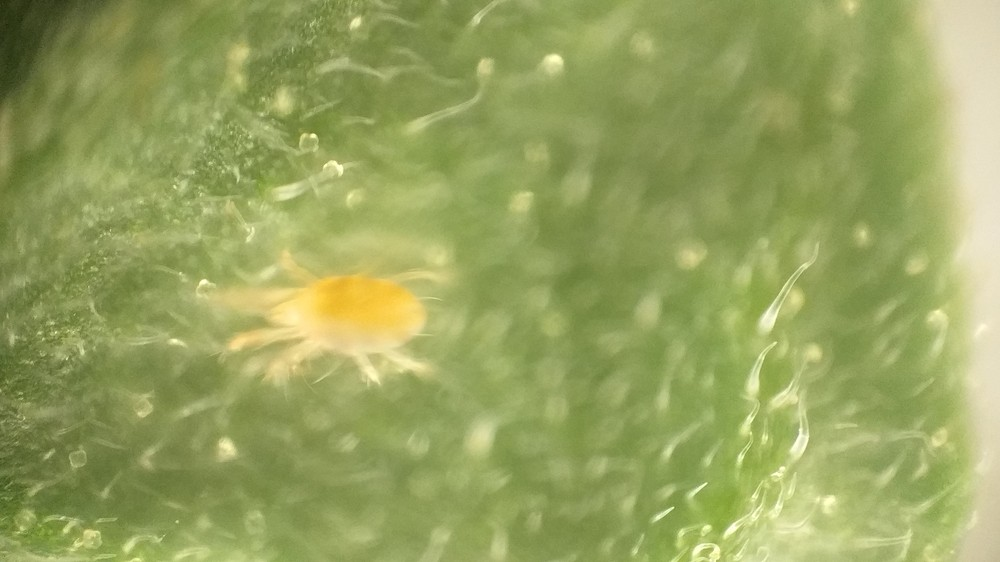Aracnido Rojo: (212, 237, 457, 395)
